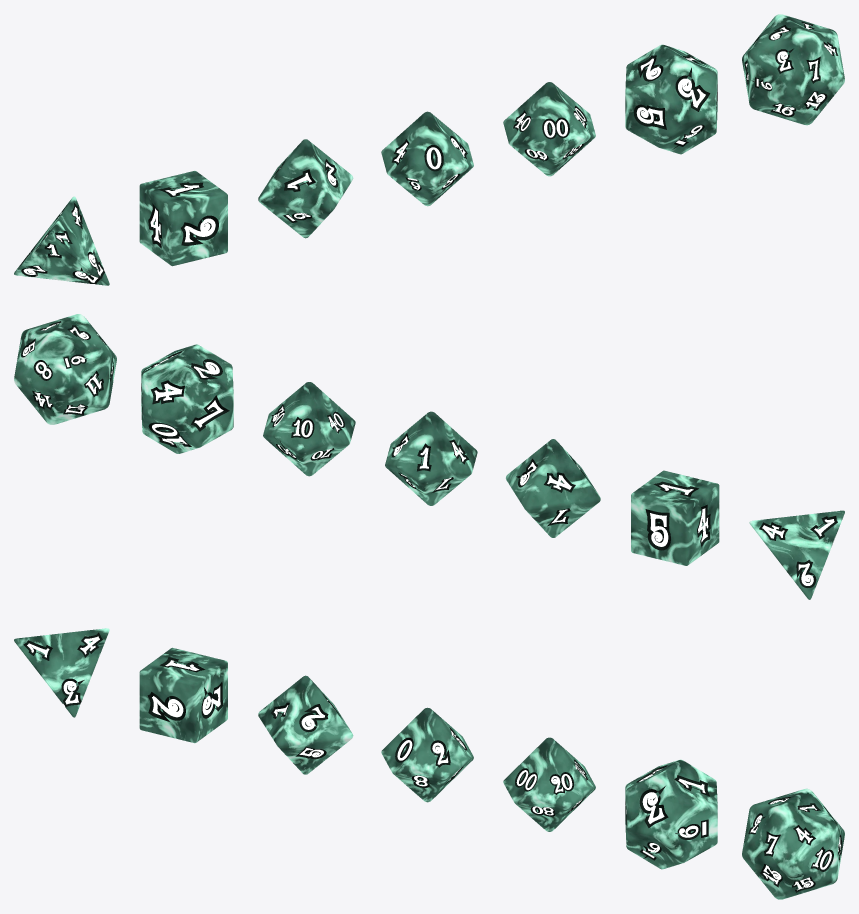
Rendered from ectoplasm.glb.
3 views of the same model, one above another, from view 1: azimuth 30°, elevation 25°; view 2: azimuth 150°, elevation 25°; view 3: azimuth 330°, elevation 25° (orthographic).
Parts seen in each view (by area): view 1: d20, d12, d6, d100, d10, d8, d4; view 2: d20, d12, d6, d100, d10, d8, d4; view 3: d20, d12, d6, d8, d100, d10, d4.
Boxes of the visible parts, box(x1,y1,x2,y2) form: d20: box(742, 14, 844, 125); d12: box(625, 44, 717, 154); d6: box(139, 170, 227, 266); d100: box(503, 82, 595, 176); d10: box(381, 111, 473, 206); d8: box(258, 139, 353, 238); d4: box(14, 196, 109, 285); d20: box(14, 314, 116, 424); d12: box(141, 344, 233, 453); d6: box(631, 470, 719, 565); d100: box(263, 382, 355, 476); d10: box(385, 411, 477, 505); d8: box(505, 439, 600, 537); d4: box(749, 510, 844, 599); d20: box(742, 788, 844, 899); d12: box(625, 759, 717, 869); d6: box(139, 647, 227, 743); d8: box(258, 675, 353, 774); d100: box(503, 737, 595, 831); d10: box(381, 707, 473, 802); d4: box(14, 628, 109, 717).
Bounding box in the file's own units: 21.14 × 2.47 × 2.47.
Materials: 21 (7 with a texture image).
